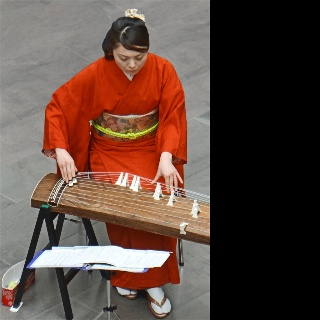without_mask: (112, 44, 148, 75)
